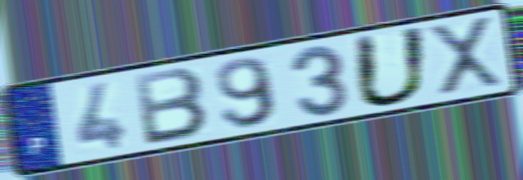3: (288, 42, 350, 119)
4: (74, 79, 130, 153)
9: (213, 55, 280, 131)
B: (131, 65, 211, 148)
U: (350, 23, 432, 110)
X: (424, 14, 507, 99)
